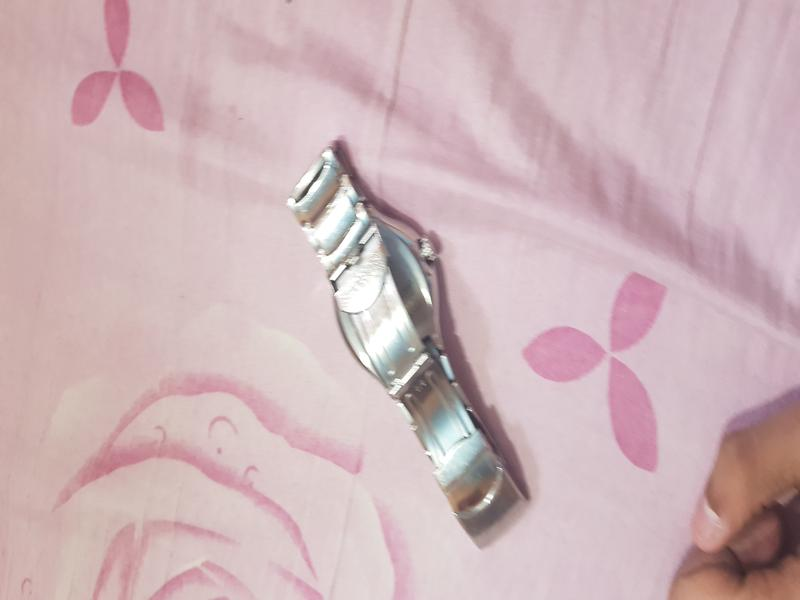watch: (226, 116, 616, 566)
